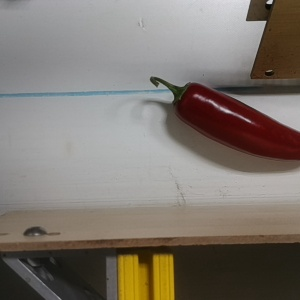Cut Point: (166, 78, 201, 115)
